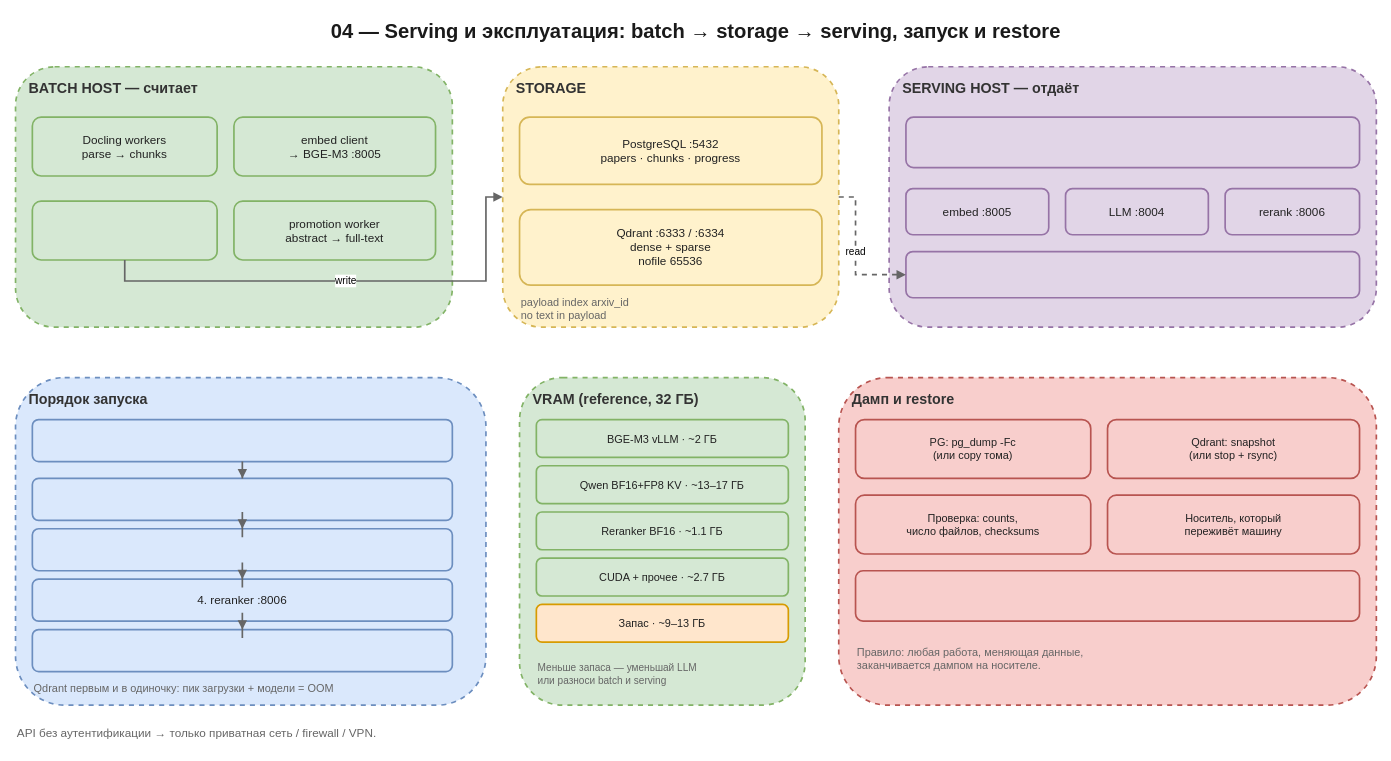
This 1391x761 diagram has some shape labels left out. The shapes that lost their labels are listed below. From the top down, each one's centre as x and y in pixels, then its label:
the point at 1132,142: API :8080 /search /ask /paper
the point at 124,230: PG writer Qdrant writer
the point at 1132,274: PG reader · Qdrant reader heavy lane = 1
the point at 242,440: 1. Qdrant — первым, дождаться green
the point at 242,499: 2. embeddings :8005
the point at 242,549: 3. LLM :8004
the point at 1107,596: Restore в пустые тома → counts → smoke
the point at 242,650: 5. API :8080 → /health
